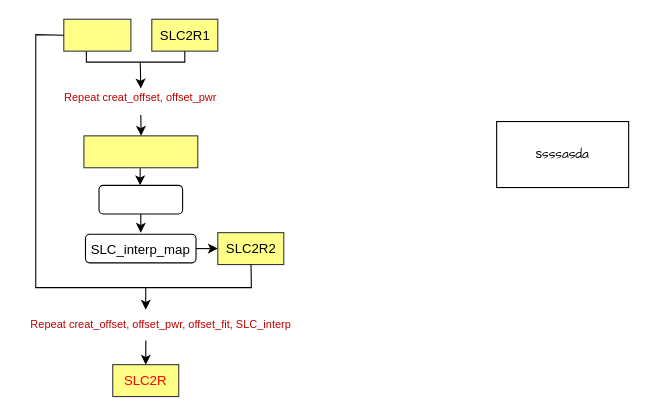
Image size: 648x416. Some labels were removed from this diagram. The centre of each missing label's shape, as x and y in pixels:
interp_ad: the point at 140,199
offset estimates: the point at 140,151
SLC1: the point at 97,34
